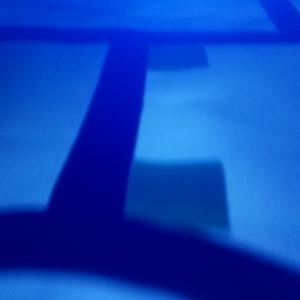bottom_right: (111, 30, 209, 70)
top_right: (67, 161, 230, 272)
